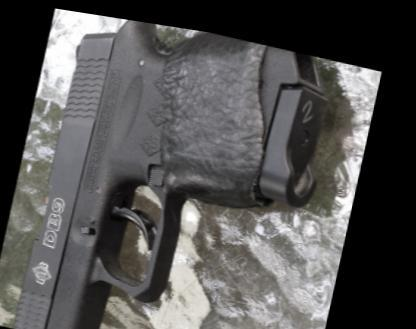pistol: (21, 7, 342, 327)
